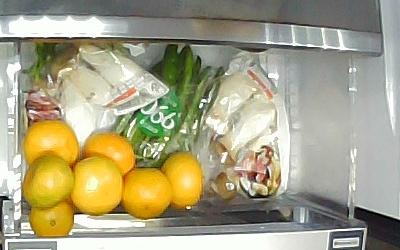tangerine: (72, 156, 122, 215), (23, 155, 74, 208), (23, 119, 79, 167), (162, 150, 203, 213), (82, 132, 136, 179), (124, 166, 171, 218), (29, 196, 74, 238)
